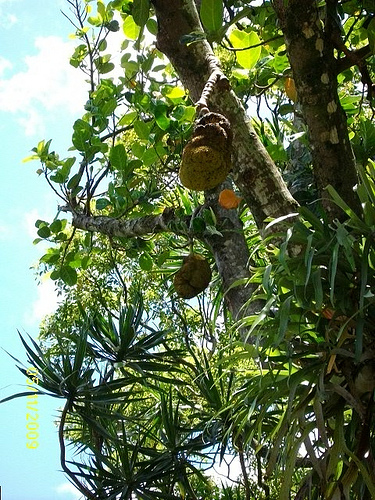jackfruit: (177, 70, 236, 193), (171, 252, 215, 301)
